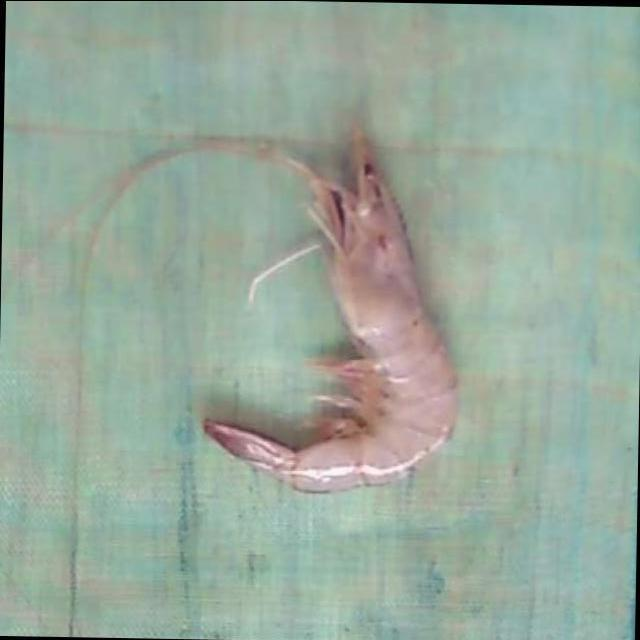shrimp: (203, 126, 454, 492)
